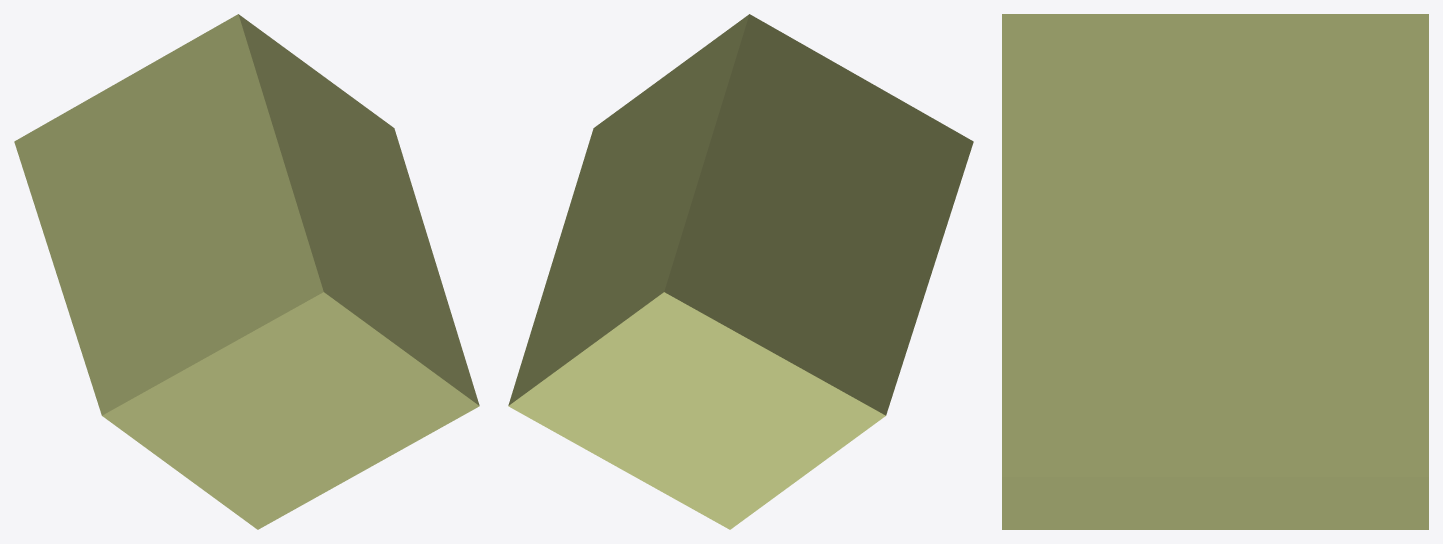
3 renders of one model, left to right at view 1: azimuth 30°, elevation 25°; view 2: azimuth 150°, elevation 25°; view 3: azimuth 270°, elevation 25°, orthographic. The views are drawn at different scales.
Parts seen in each view (by area): view 1: 0_1_0_2_0_2_0_0_3_0_1; view 2: 0_1_0_2_0_2_0_0_3_0_1; view 3: 0_1_0_2_0_2_0_0_3_0_1.
Part boxes in pixels (x1,y1,x2,y2): 0_1_0_2_0_2_0_0_3_0_1: [14, 14, 479, 529]; 0_1_0_2_0_2_0_0_3_0_1: [508, 14, 973, 529]; 0_1_0_2_0_2_0_0_3_0_1: [1002, 14, 1428, 529].
Bounding box in the file's own units: 6.88 × 7.82 × 6.
